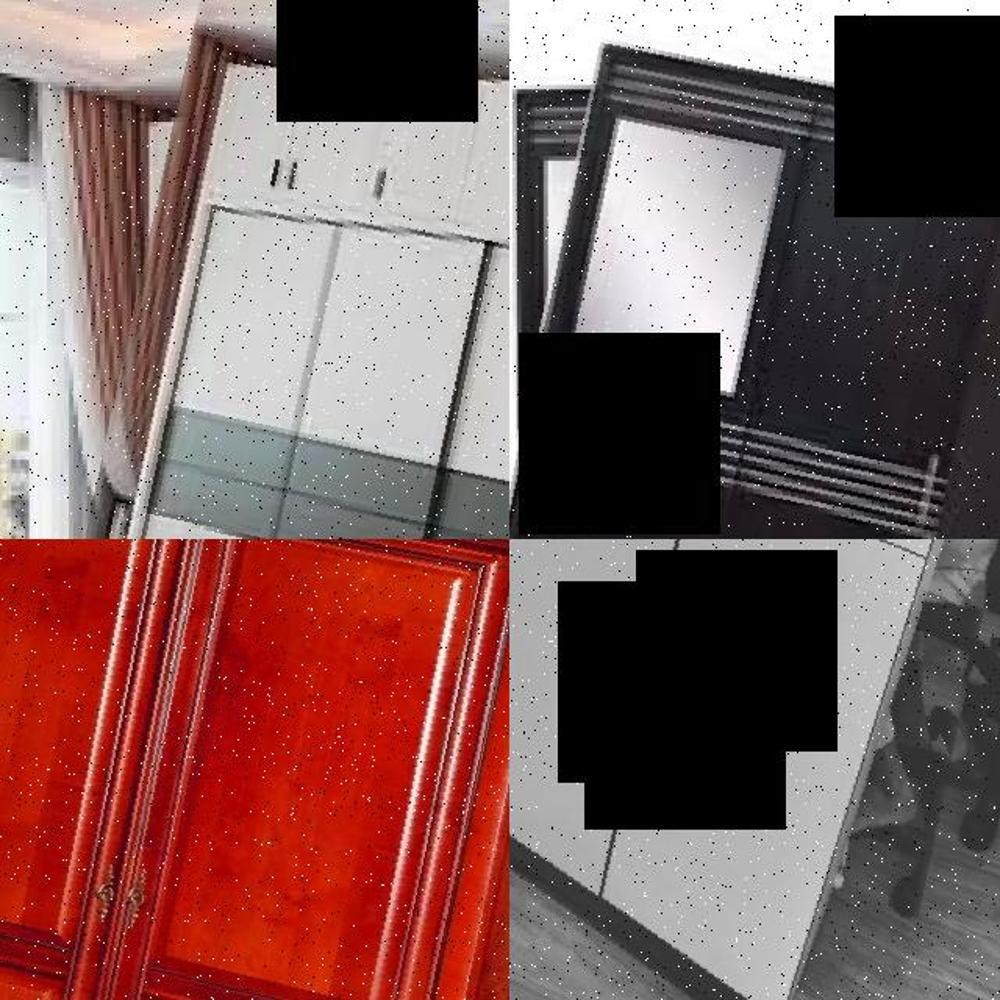cabinet: (509, 37, 1000, 539), (66, 0, 509, 539), (0, 539, 509, 1000), (509, 539, 1000, 1000)
